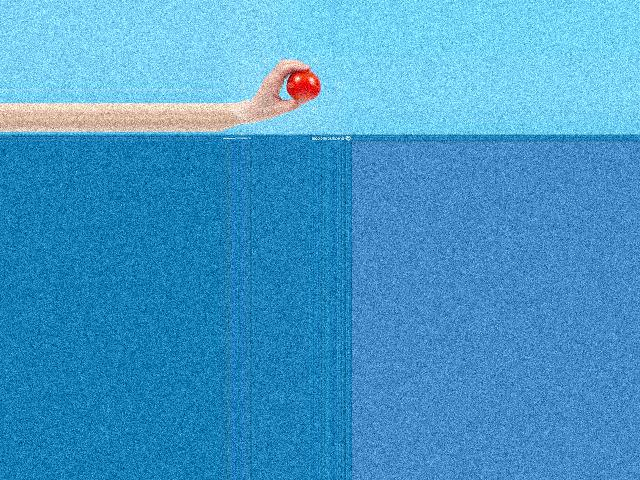tomato: (286, 70, 320, 100)
